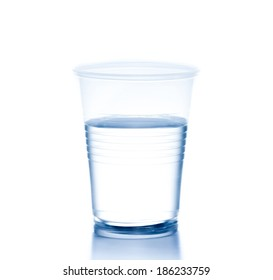plastic_glass: (66, 55, 208, 245)
